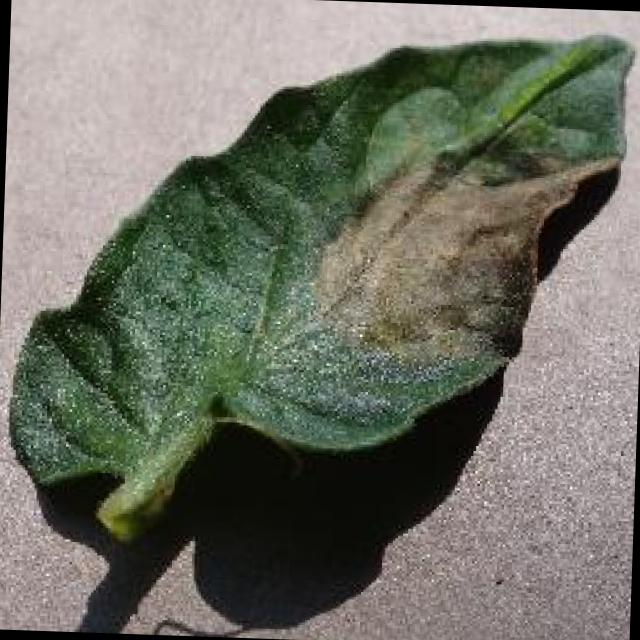Tomato_Late_Blight: (318, 133, 626, 373)
